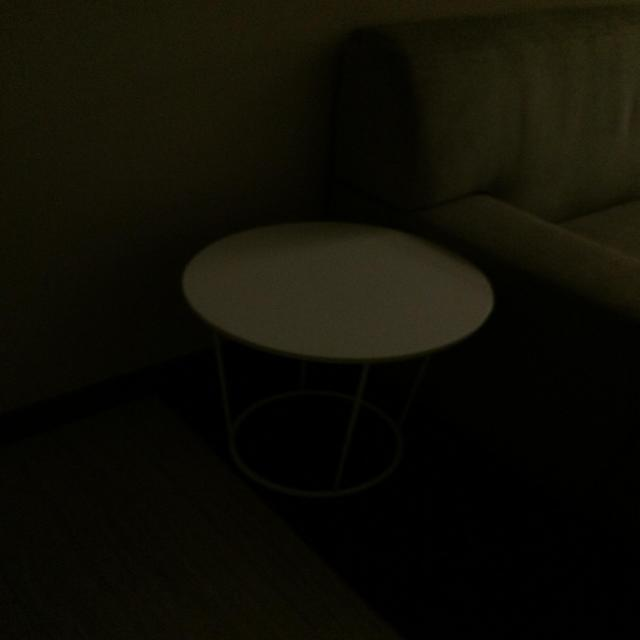Table: (131, 201, 510, 448)
